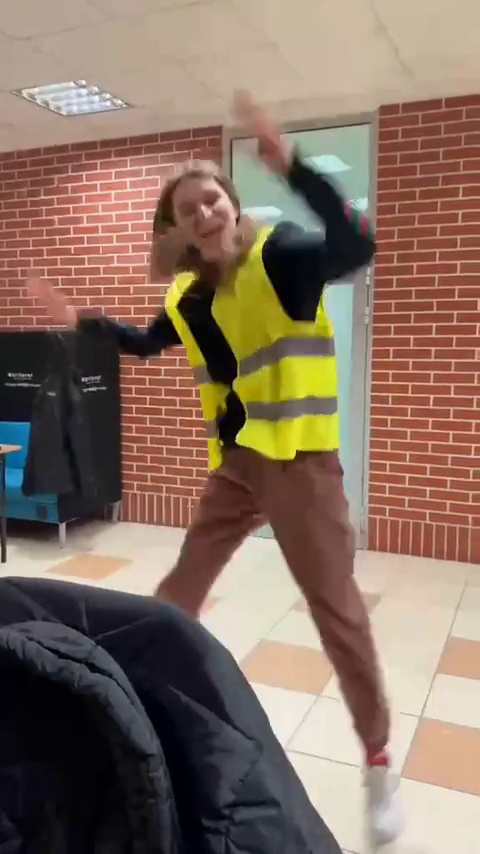vest: (124, 177, 389, 739)
